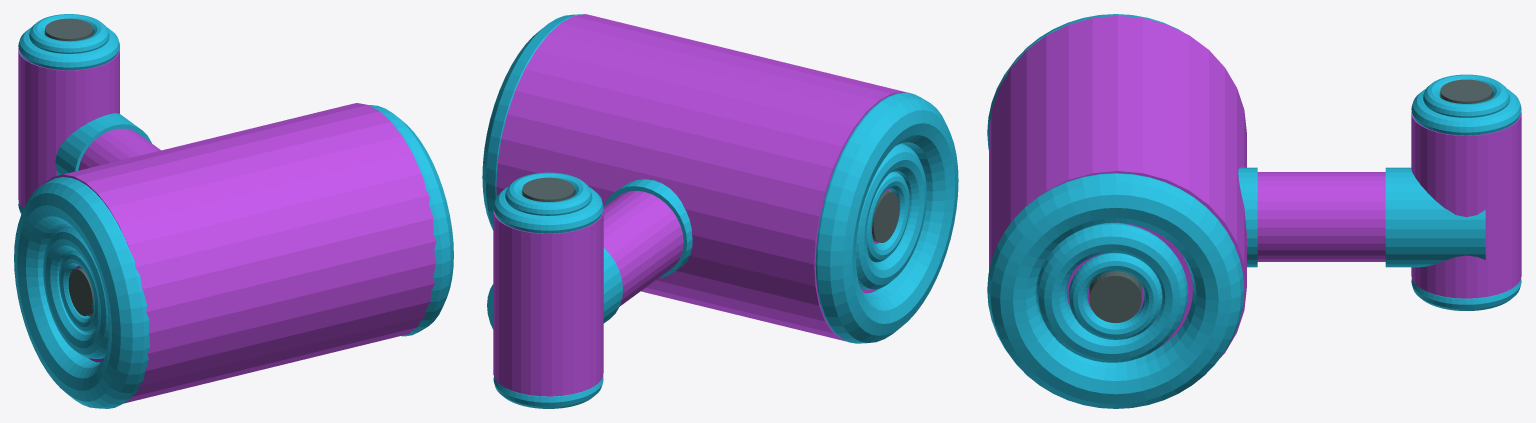
Rendered from hammer_2.glb.
3 renders of one model, left to right at view 1: azimuth 30°, elevation 25°; view 2: azimuth 150°, elevation 25°; view 3: azimuth 270°, elevation 25°, orthographic. The views are drawn at different scales.
Visible parts, largest first — view 1: Cylinder.002, Torus.002, Cylinder, Torus.003, Torus.005, Torus, Cylinder.001, Cylinder.004, Torus.008, Torus.004, Cylinder.007, Cylinder.005; view 2: Cylinder.002, Torus.002, Cylinder, Cylinder.004, Torus.003, Torus.005, Torus, Torus.008, Torus.004, Cylinder.006, Cylinder.001, Torus.001 (+2 smaller); view 3: Cylinder.002, Torus.005, Cylinder, Cylinder.004, Torus.006, Cylinder.001, Torus.007, Torus, Cylinder.007, Torus.008, Cylinder.006, Torus.001 (+2 smaller).
Boxes of the visible parts, x1,y1,x2,y2 form: Cylinder.002: (43, 103, 436, 403); Torus.002: (14, 177, 149, 408); Cylinder: (18, 47, 119, 208); Torus.003: (43, 224, 108, 358); Torus.005: (368, 105, 453, 336); Torus: (18, 27, 119, 70); Cylinder.001: (55, 113, 151, 175); Cylinder.004: (78, 128, 160, 170); Torus.008: (29, 14, 109, 53); Torus.004: (59, 250, 99, 333); Cylinder.007: (68, 267, 93, 316); Cylinder.005: (45, 18, 93, 41); Cylinder.002: (496, 14, 911, 341); Torus.002: (815, 92, 958, 343); Cylinder: (493, 209, 603, 396); Cylinder.004: (603, 191, 683, 305); Torus.003: (855, 143, 926, 289); Torus.005: (482, 14, 583, 230); Torus: (493, 187, 603, 233); Torus.008: (505, 172, 591, 215); Torus.004: (866, 171, 909, 262); Cylinder.006: (603, 179, 692, 278); Cylinder.001: (487, 248, 622, 329); Torus.001: (493, 377, 603, 408); Cylinder.002: (989, 15, 1246, 358); Torus.005: (987, 173, 1244, 408); Cylinder: (1411, 112, 1521, 298); Cylinder.004: (1257, 172, 1385, 261); Torus.006: (1036, 222, 1187, 362); Cylinder.001: (1385, 167, 1485, 267); Torus.007: (1068, 253, 1162, 339); Torus: (1411, 89, 1521, 135); Cylinder.007: (1089, 271, 1141, 323); Torus.008: (1423, 74, 1509, 117); Cylinder.006: (1238, 167, 1257, 267); Torus.001: (1411, 279, 1521, 310).
Size of the model in its own units: 771 by 472 by 967.
